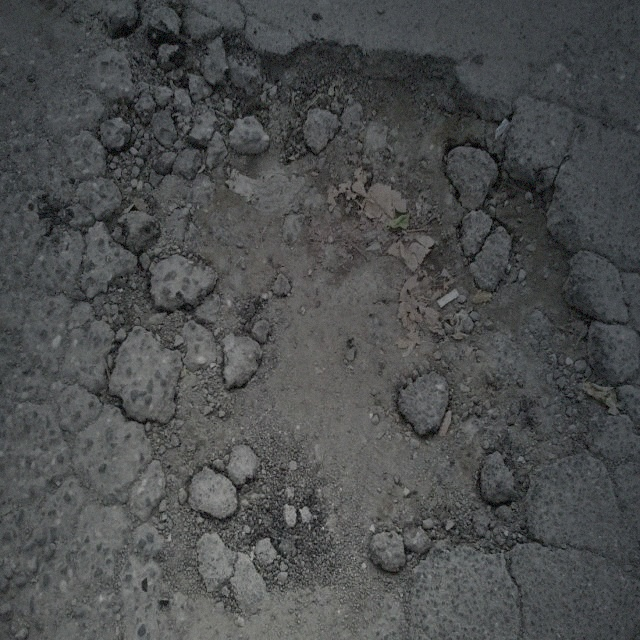pothole: (99, 28, 618, 583)
